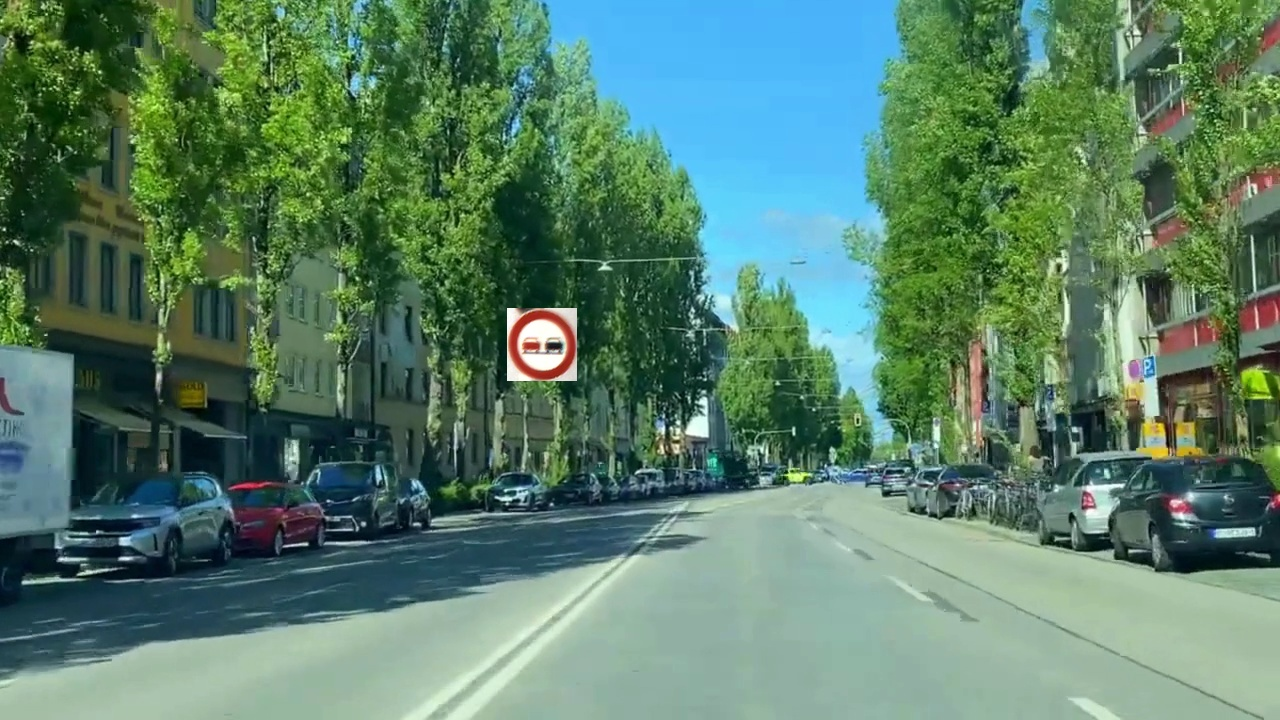No passing: (507, 308, 577, 381)
